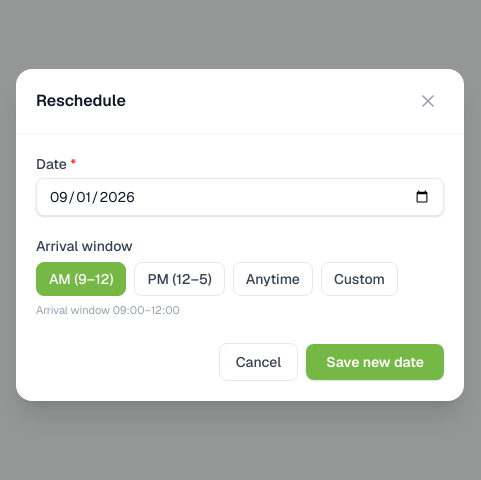
Test: RescheduleJobModal — failure is visible › renders the wrapper's failure message when the enqueue throws
The image size is (481, 480).
Click the button "Save new date" at x=375, y=362, box left=306, top=344, right=444, bottom=380
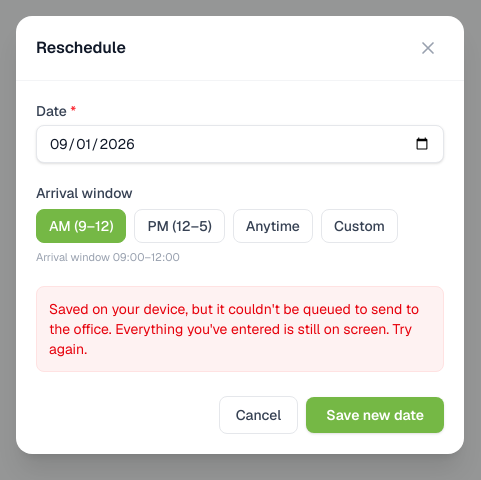
Expected: the button "Save new date" is enabled, left=306, top=397, right=444, bottom=433
Result: the message shows "Saved on your device" at left=49, top=300, right=419, bottom=358
Result: the message shows "queue" at left=49, top=300, right=419, bottom=358
